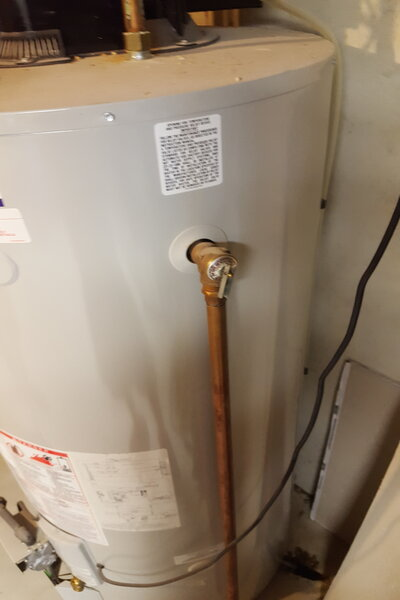valve: (187, 238, 239, 315)
